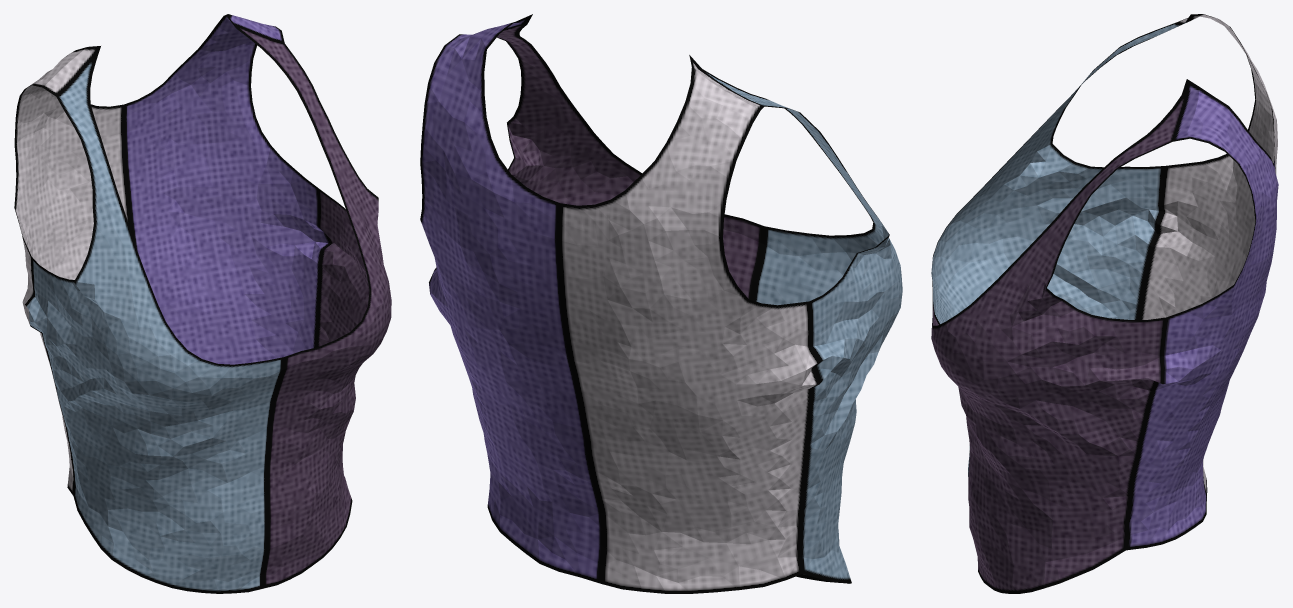
The model's file is tank_knit2_sim.obj.
3 views of the same model, side by side, from view 1: azimuth 30°, elevation 25°; view 2: azimuth 150°, elevation 25°; view 3: azimuth 270°, elevation 25° (orthographic). The views are drawn at different scales.
Bounding box in the file's own units: 22.55 × 33.57 × 20.4.
Materials: 1 (1 with a texture image).
